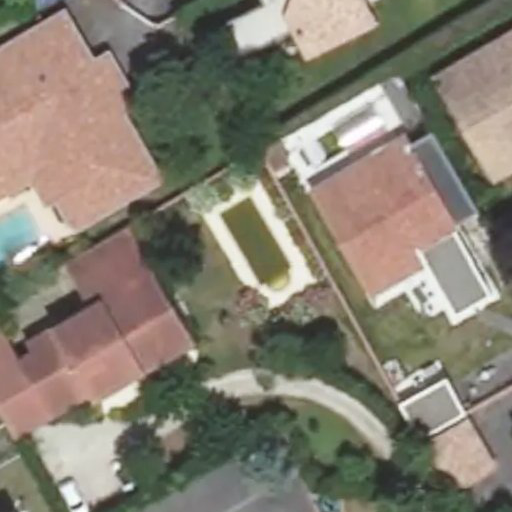pool: (217, 213, 301, 278)
